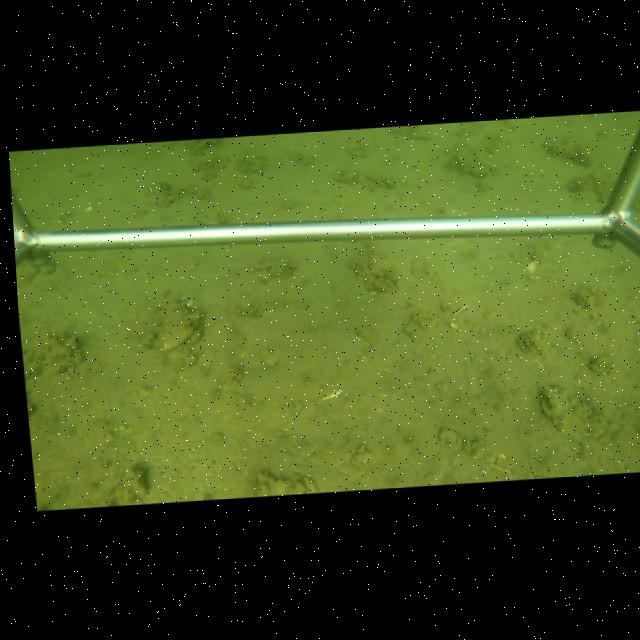Oyster-Closed: (154, 313, 198, 354)
